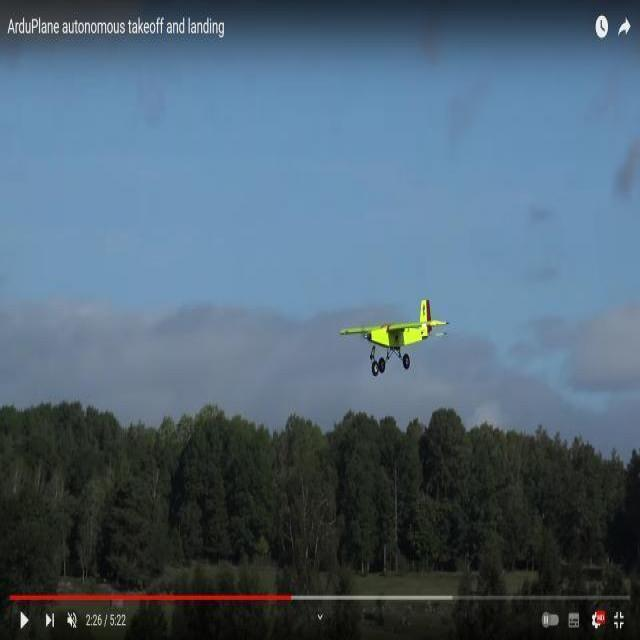iha: (382, 333, 418, 345)
